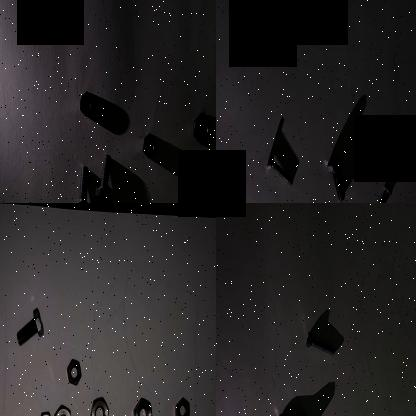Bolts: (15, 303, 47, 347), (305, 326, 340, 364), (266, 151, 296, 191), (325, 155, 349, 203), (94, 151, 114, 203), (72, 160, 95, 203), (369, 175, 395, 203), (278, 401, 308, 416)
NUTS: (191, 110, 215, 150), (140, 132, 158, 162), (66, 359, 82, 388), (131, 397, 155, 416), (88, 396, 110, 416), (80, 86, 92, 121), (174, 396, 191, 416), (52, 404, 74, 416)
